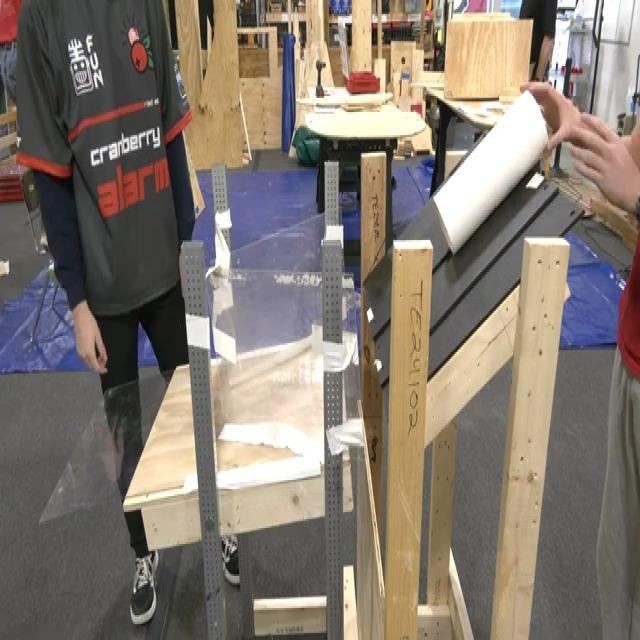Coral: (431, 87, 549, 254)
